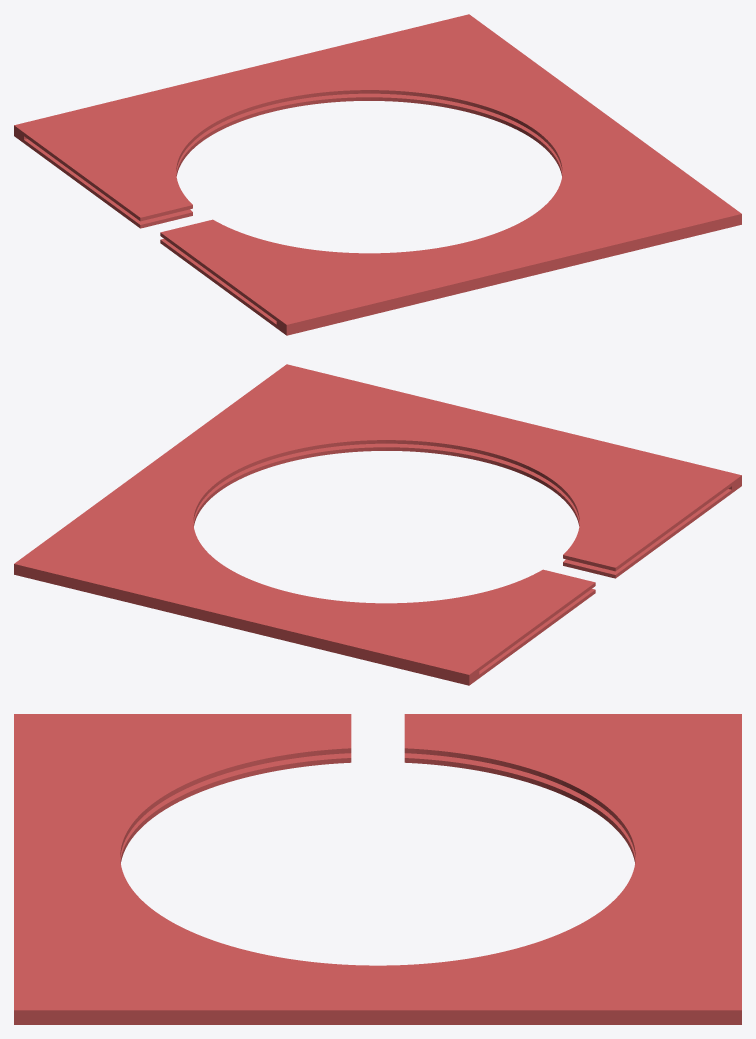
3 renders of one model, top to bottom at view 1: azimuth 30°, elevation 25°; view 2: azimuth 150°, elevation 25°; view 3: azimuth 270°, elevation 25°, orthographic. The views are drawn at different scales.
Size of the model in its own units: 26.4 by 0.6 by 27.4.
